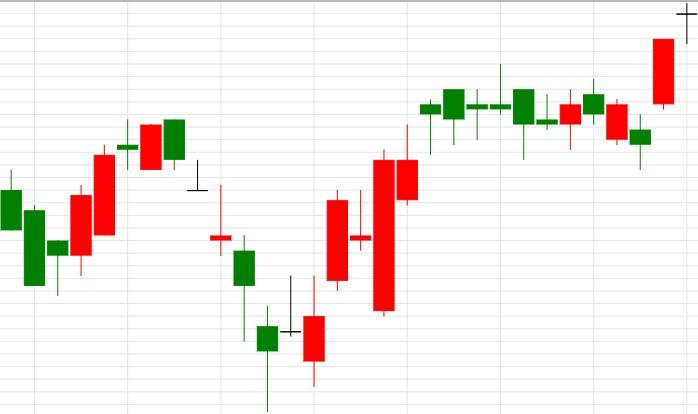hammer_rise: (0, 169, 70, 296)
